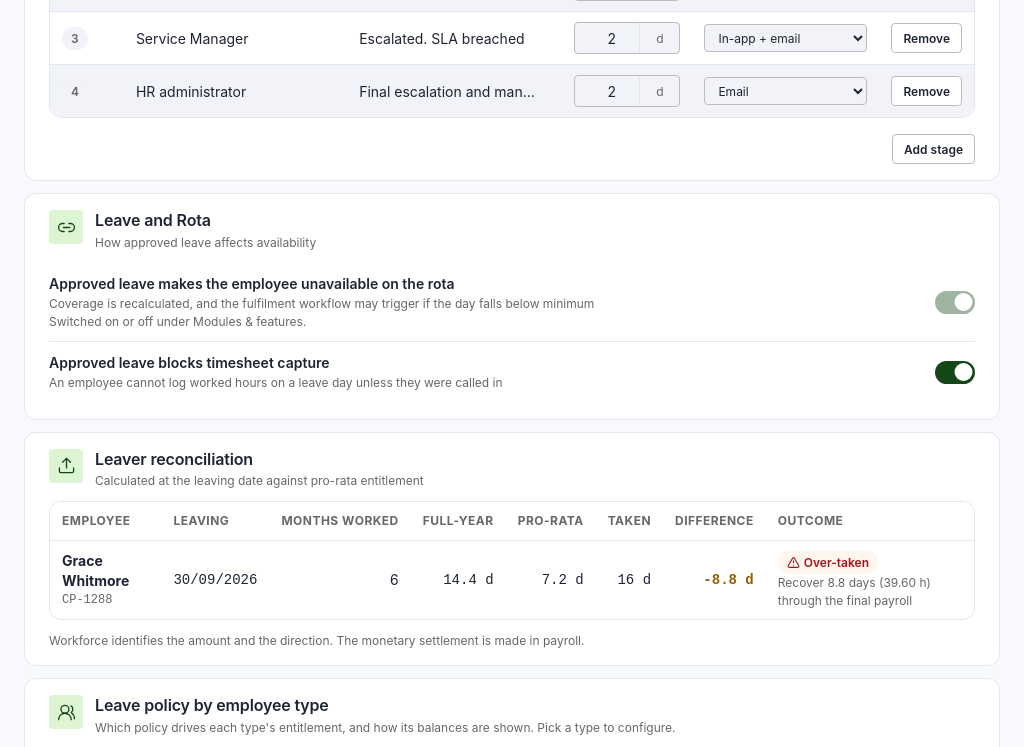
Test: Leave setup › leave policies › while the page has unsaved changes, the policy actions wait
The width and height of the screenshot is (1024, 747).
(page scrolled)
Click the switch named "Approved leave blocks timesheet capture" at (955, 372), box x1=935 y1=361 x2=975 y2=384
(page scrolled)
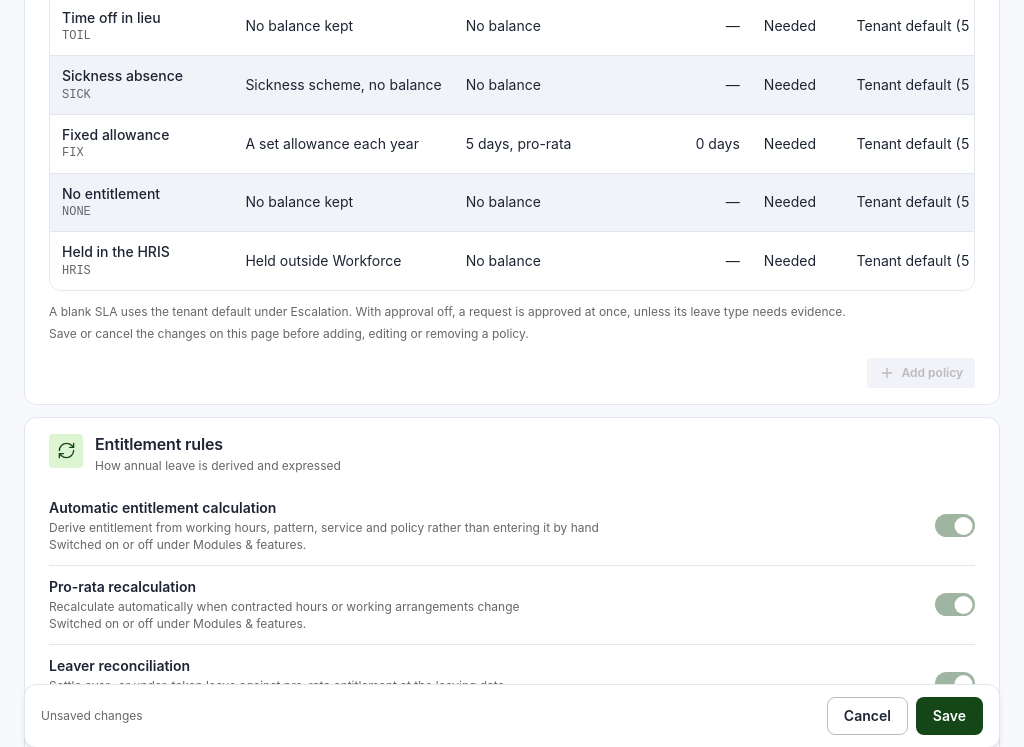
Now the text with test id "mleave-policy-locked" shows "Save or cancel the changes on this page", box x1=49 y1=326 x2=529 y2=340
Now the button with test id "mleave-policy-add" is disabled, box x1=866 y1=358 x2=975 y2=388
